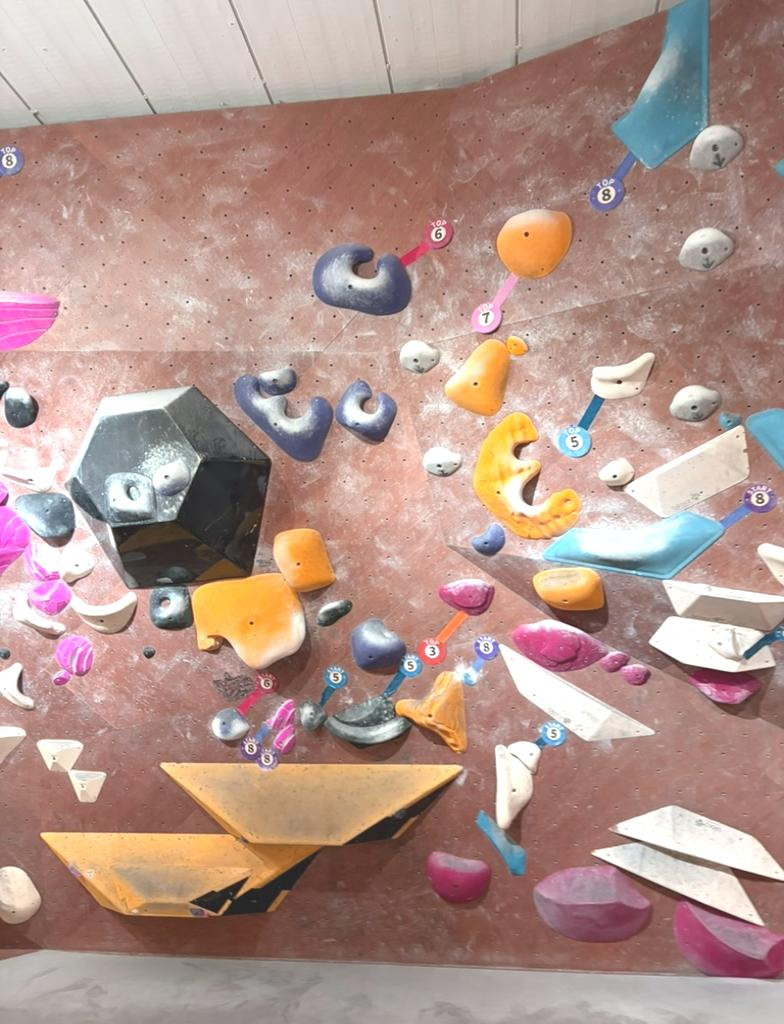crimp: (29, 580, 71, 615), (56, 637, 92, 675), (26, 542, 59, 581), (315, 599, 352, 626), (506, 336, 527, 355)
downhold: (689, 125, 743, 169), (679, 227, 733, 270), (670, 385, 721, 421), (400, 340, 439, 372), (423, 447, 461, 476)
jib: (0, 646, 10, 659), (144, 647, 154, 657)
jug: (474, 414, 581, 539), (235, 375, 332, 461), (312, 243, 409, 315), (445, 339, 509, 415), (511, 620, 608, 670), (336, 379, 396, 442), (592, 352, 654, 399), (71, 591, 137, 633), (352, 619, 404, 668), (13, 595, 64, 637), (438, 578, 494, 615), (4, 387, 37, 427), (153, 460, 190, 495), (472, 522, 505, 556), (258, 367, 296, 395), (599, 652, 629, 672), (621, 664, 649, 684)
ledge: (612, 0, 708, 168), (500, 646, 653, 740), (627, 425, 747, 517), (665, 581, 783, 631)
sidepull: (274, 528, 334, 591), (495, 746, 533, 829), (0, 663, 34, 708)
sloper: (543, 511, 724, 579), (497, 209, 572, 279), (104, 472, 154, 523), (149, 585, 192, 629), (764, 660, 783, 728)
tape: (557, 396, 603, 457), (416, 611, 468, 663), (472, 275, 518, 333), (589, 153, 635, 211), (721, 484, 776, 527), (400, 219, 452, 264), (382, 653, 421, 697), (237, 673, 276, 714), (743, 623, 783, 659), (318, 665, 347, 708), (470, 635, 498, 674), (242, 724, 268, 760), (536, 721, 566, 748), (258, 748, 277, 769)
undercling: (593, 843, 763, 923), (611, 805, 783, 880), (192, 574, 305, 670), (649, 616, 773, 673), (327, 696, 409, 747), (15, 493, 72, 538), (689, 668, 760, 703), (212, 708, 248, 740), (299, 700, 326, 730)
volume: (66, 386, 271, 587), (161, 763, 460, 846), (42, 833, 318, 917)
